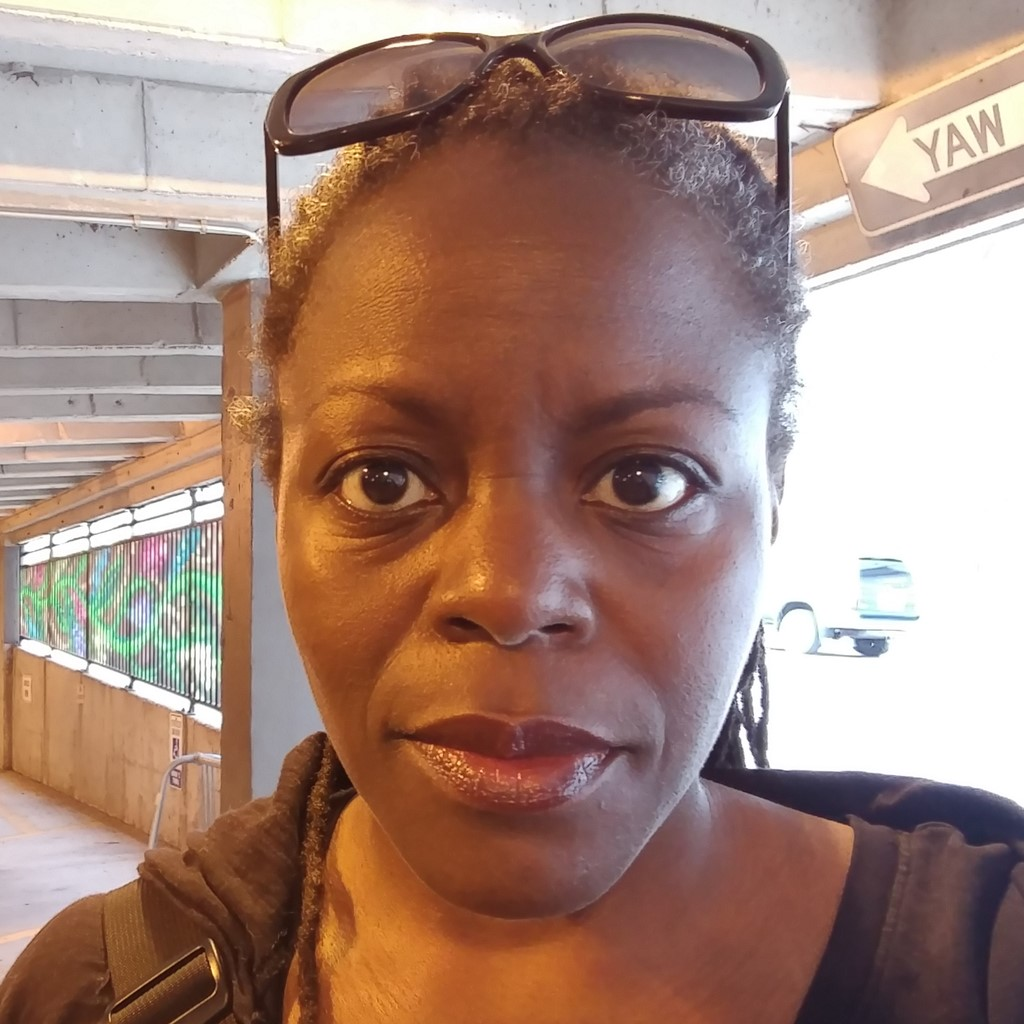sin_mascara: (278, 128, 776, 933)
